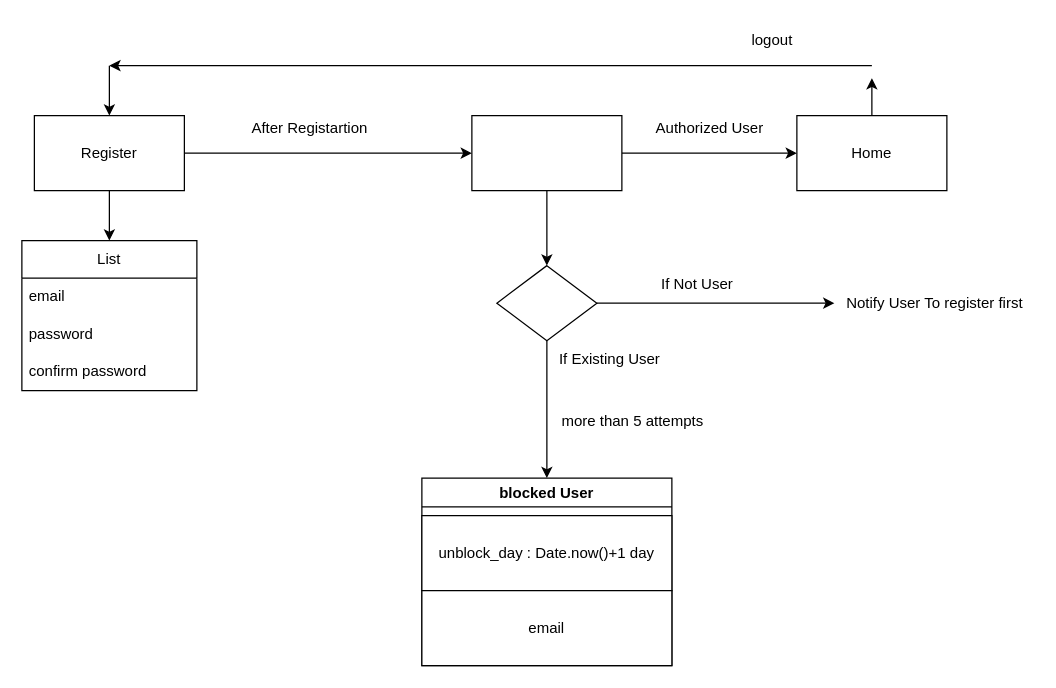
Some shapes in this 1056 by 688 pixel diagram are drawn without their labels. The shapes that lost their labels are listed below. From the top down, each one's centre as x and y in pixels, then its label:
At point 546,152: "login".
At point 546,302: "Verify User".
